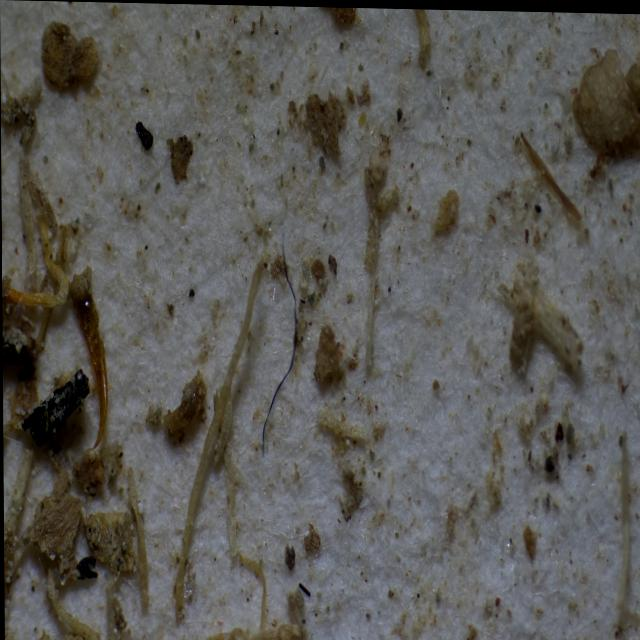microplastic: (242, 231, 322, 469), (177, 566, 199, 602)
